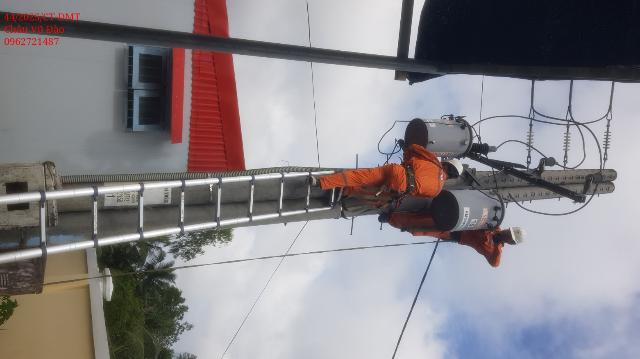gloves: (490, 233, 502, 249)
harness: (389, 154, 422, 199), (452, 225, 460, 258)
helmet: (443, 152, 469, 187), (508, 219, 532, 249)
shoes: (305, 167, 325, 196), (378, 209, 392, 236), (337, 183, 348, 214)
